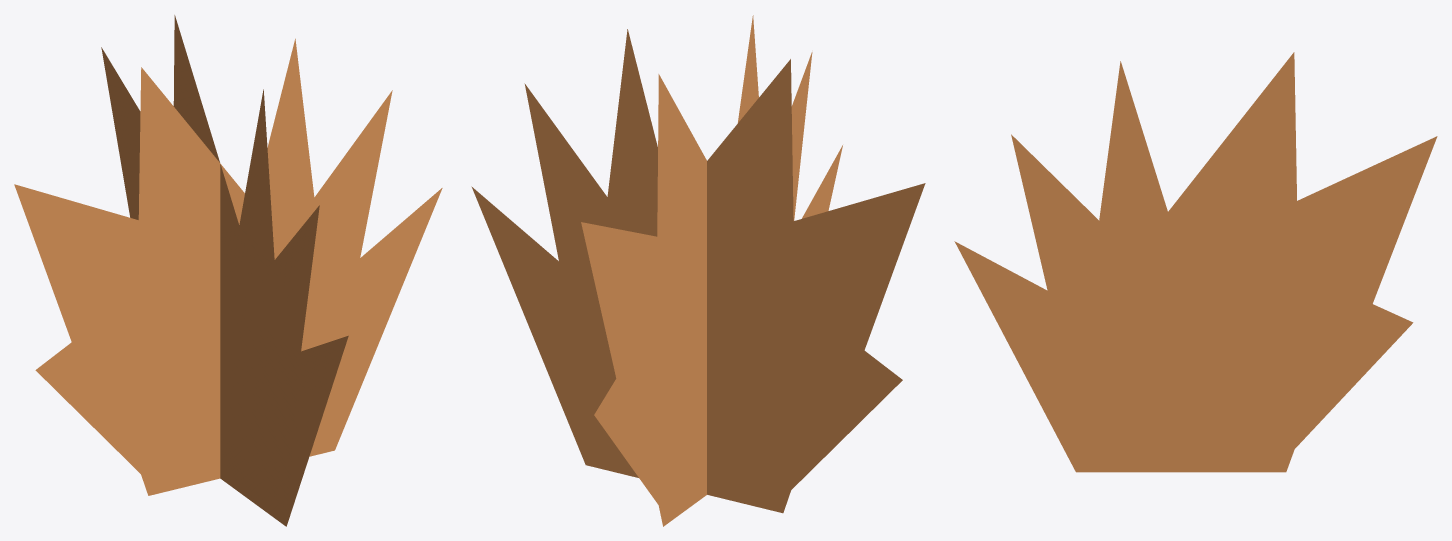
The model's file is fire1.glb.
3 views of the same model, side by side, from view 1: azimuth 30°, elevation 25°; view 2: azimuth 150°, elevation 25°; view 3: azimuth 270°, elevation 25° (orthographic). The views are drawn at different scales.
Parts seen in each view (by area): view 1: Plane; view 2: Plane; view 3: Plane.
Part boxes in pixels (box(x1,y1,x2,y2)): Plane: box(14, 15, 442, 526); Plane: box(471, 15, 925, 526); Plane: box(954, 52, 1437, 472).
Size of the model in its own units: 1.92 by 1.85 by 1.92.
